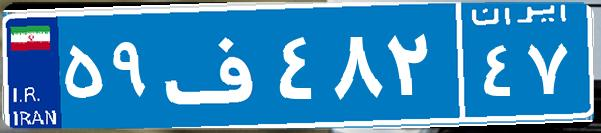2: (385, 28, 445, 110)
4: (273, 28, 330, 110), (475, 38, 525, 113)
5: (57, 26, 110, 107)
7: (525, 38, 570, 115)
8: (330, 28, 385, 110)
9: (110, 28, 158, 105)
ف: (158, 15, 273, 115)
